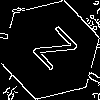Z: (25, 25, 78, 79)
